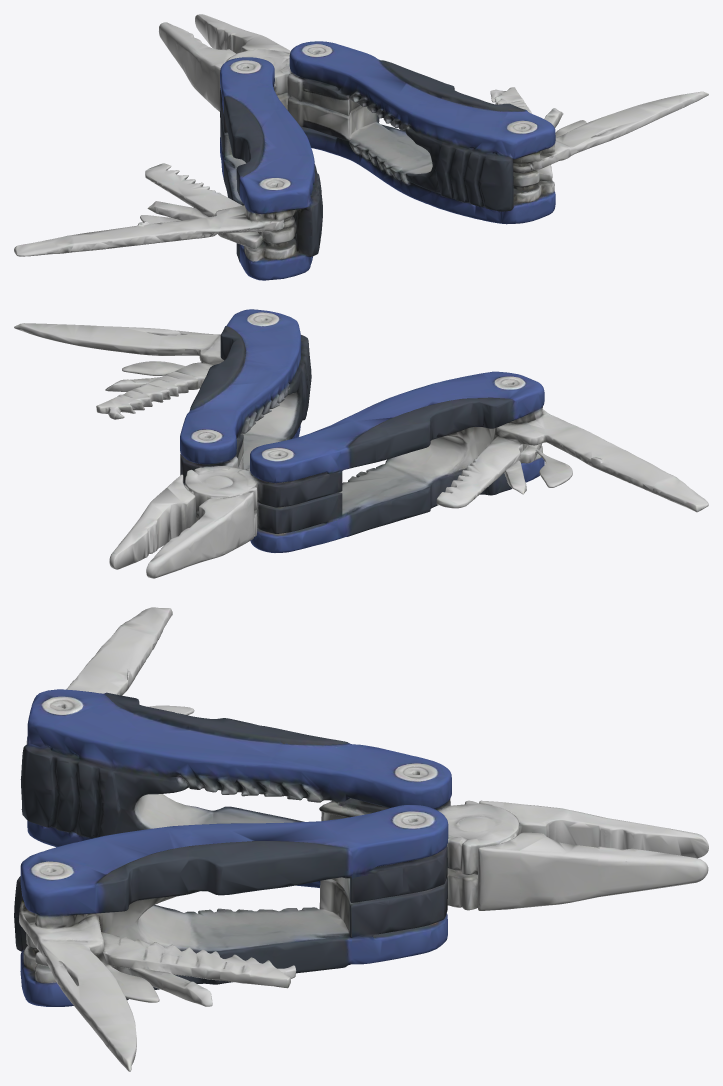
3 views of the same model, one above another, from view 1: azimuth 30°, elevation 25°; view 2: azimuth 150°, elevation 25°; view 3: azimuth 270°, elevation 25° (orthographic). The views are drawn at different scales.
Parts seen in each view (by area): view 1: tripo_node_1e04661c-d736-4dc5-b92b-fb3967f11355; view 2: tripo_node_1e04661c-d736-4dc5-b92b-fb3967f11355; view 3: tripo_node_1e04661c-d736-4dc5-b92b-fb3967f11355.
Part boxes in pixels (x1,y1,x2,y2): tripo_node_1e04661c-d736-4dc5-b92b-fb3967f11355: (14,14,708,280); tripo_node_1e04661c-d736-4dc5-b92b-fb3967f11355: (14,309,708,578); tripo_node_1e04661c-d736-4dc5-b92b-fb3967f11355: (14,607,708,1071).
Bounding box in the file's own units: 1 × 0.1333 × 0.6341.
1 material, 1 textured.
